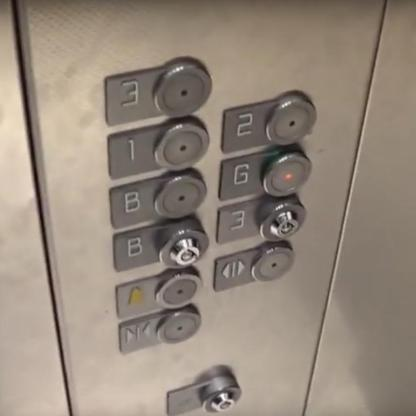1: (105, 116, 211, 181)
2: (219, 88, 318, 154)
3: (102, 54, 215, 127), (214, 193, 308, 245)
B: (107, 166, 208, 231), (110, 217, 208, 273)
G: (217, 145, 314, 201)
alarm: (113, 264, 203, 321)
blur: (164, 372, 244, 416)
close: (115, 302, 202, 358)
open: (212, 239, 295, 293)
